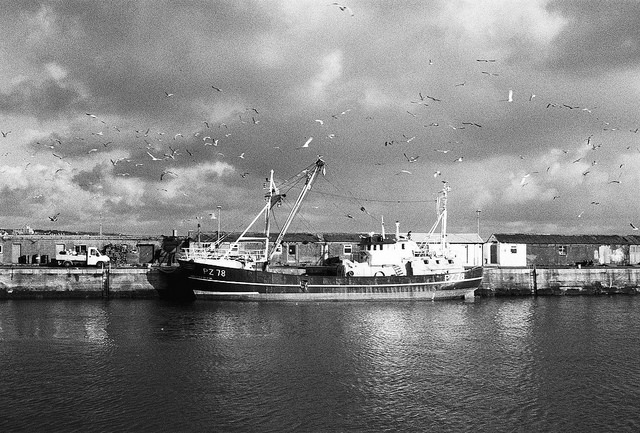fishing_boat: (170, 170, 488, 308)
